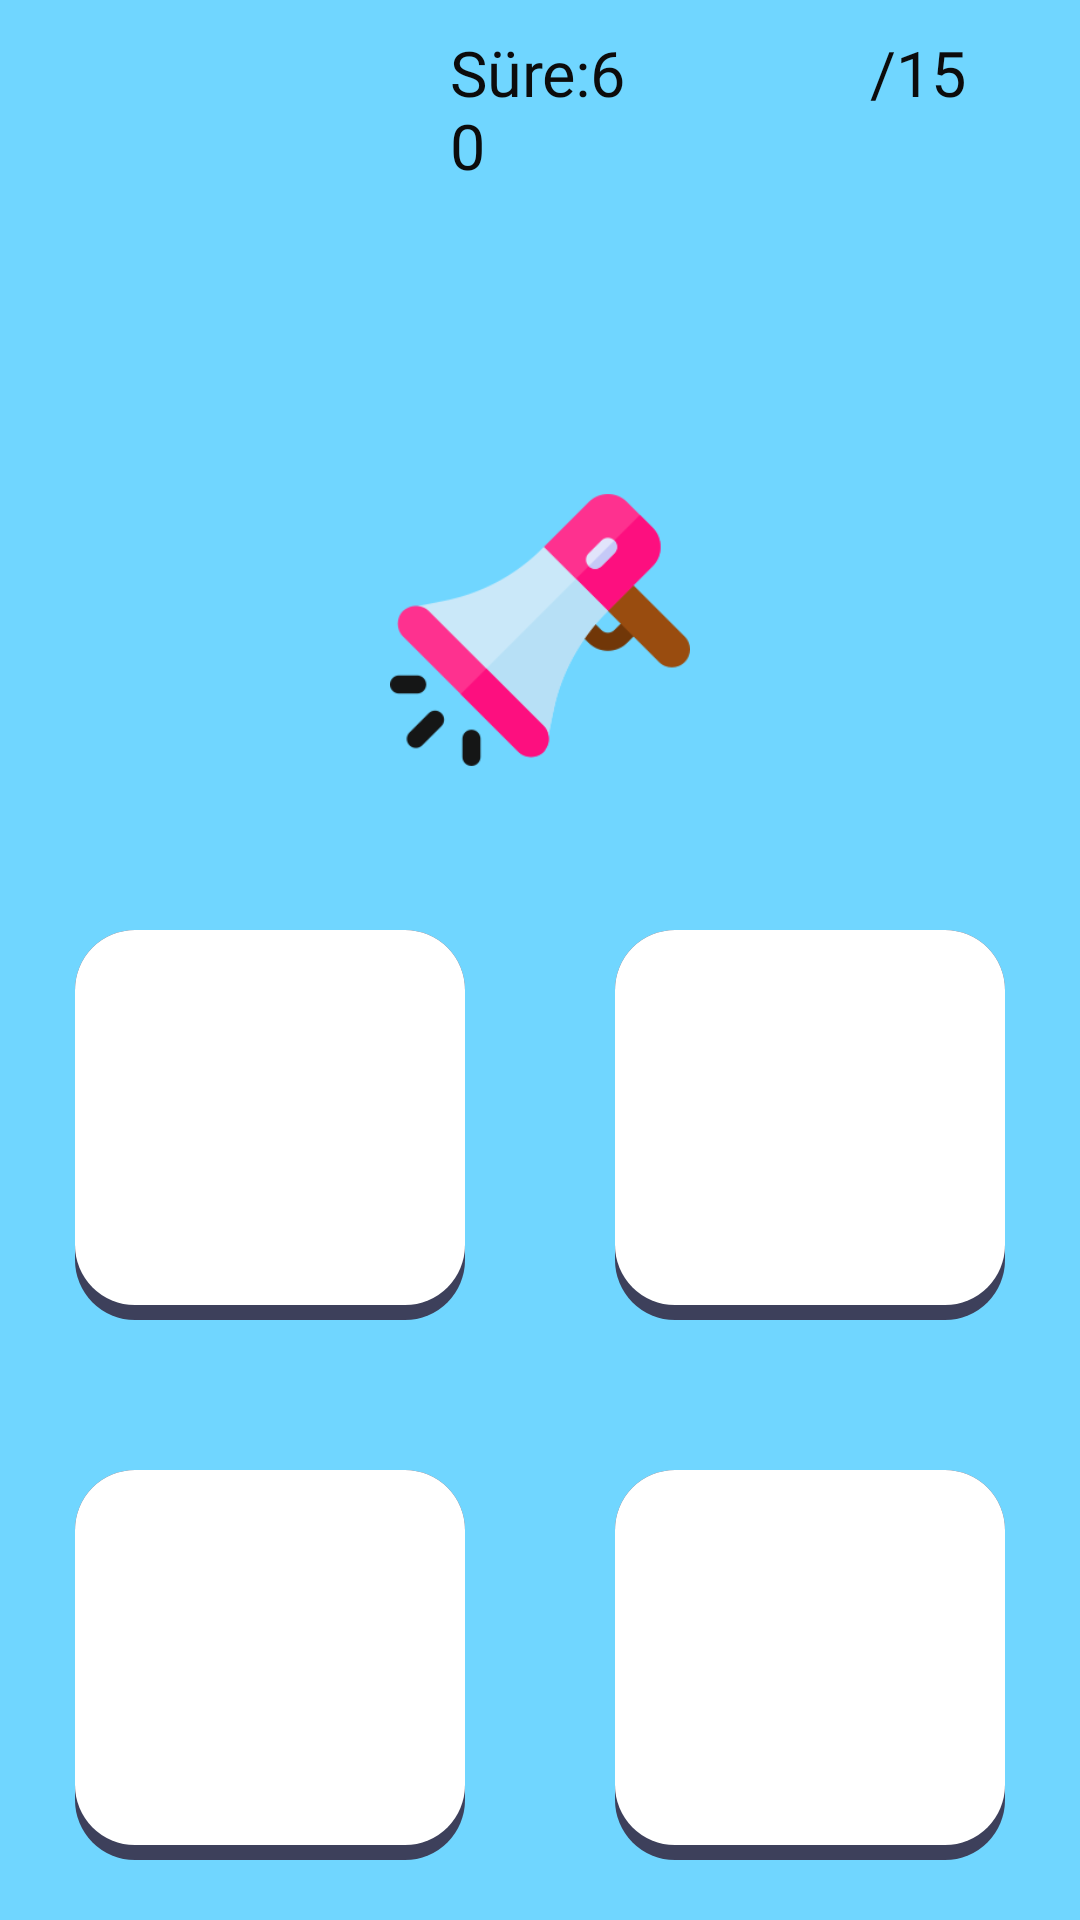

Point at icon controls on the screen. Image size 1080x1920, points as point (x, y).
megaphone: point (540, 630)
